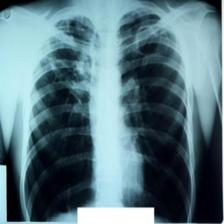tuberculosis: (22, 6, 196, 223)
